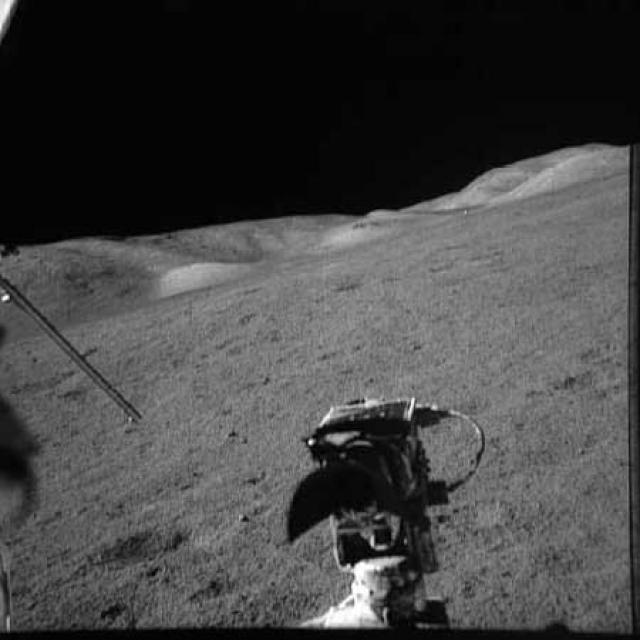artifact: (280, 391, 495, 637), (2, 272, 144, 426)
crater: (77, 511, 204, 565), (183, 566, 264, 602)
